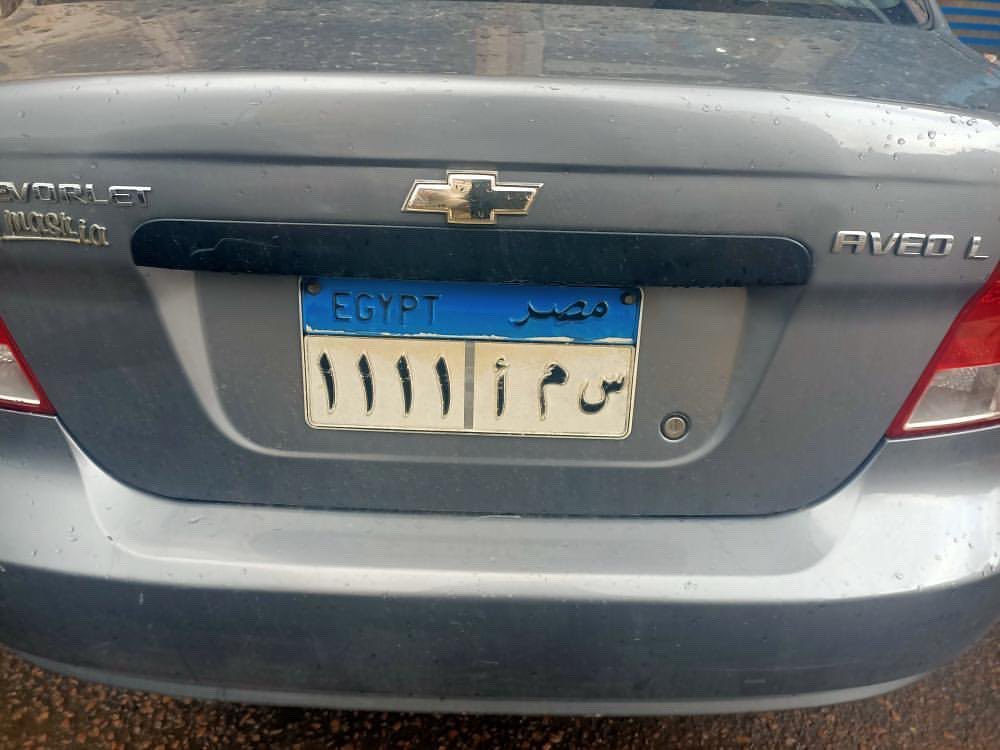carpl: (294, 262, 636, 451)
